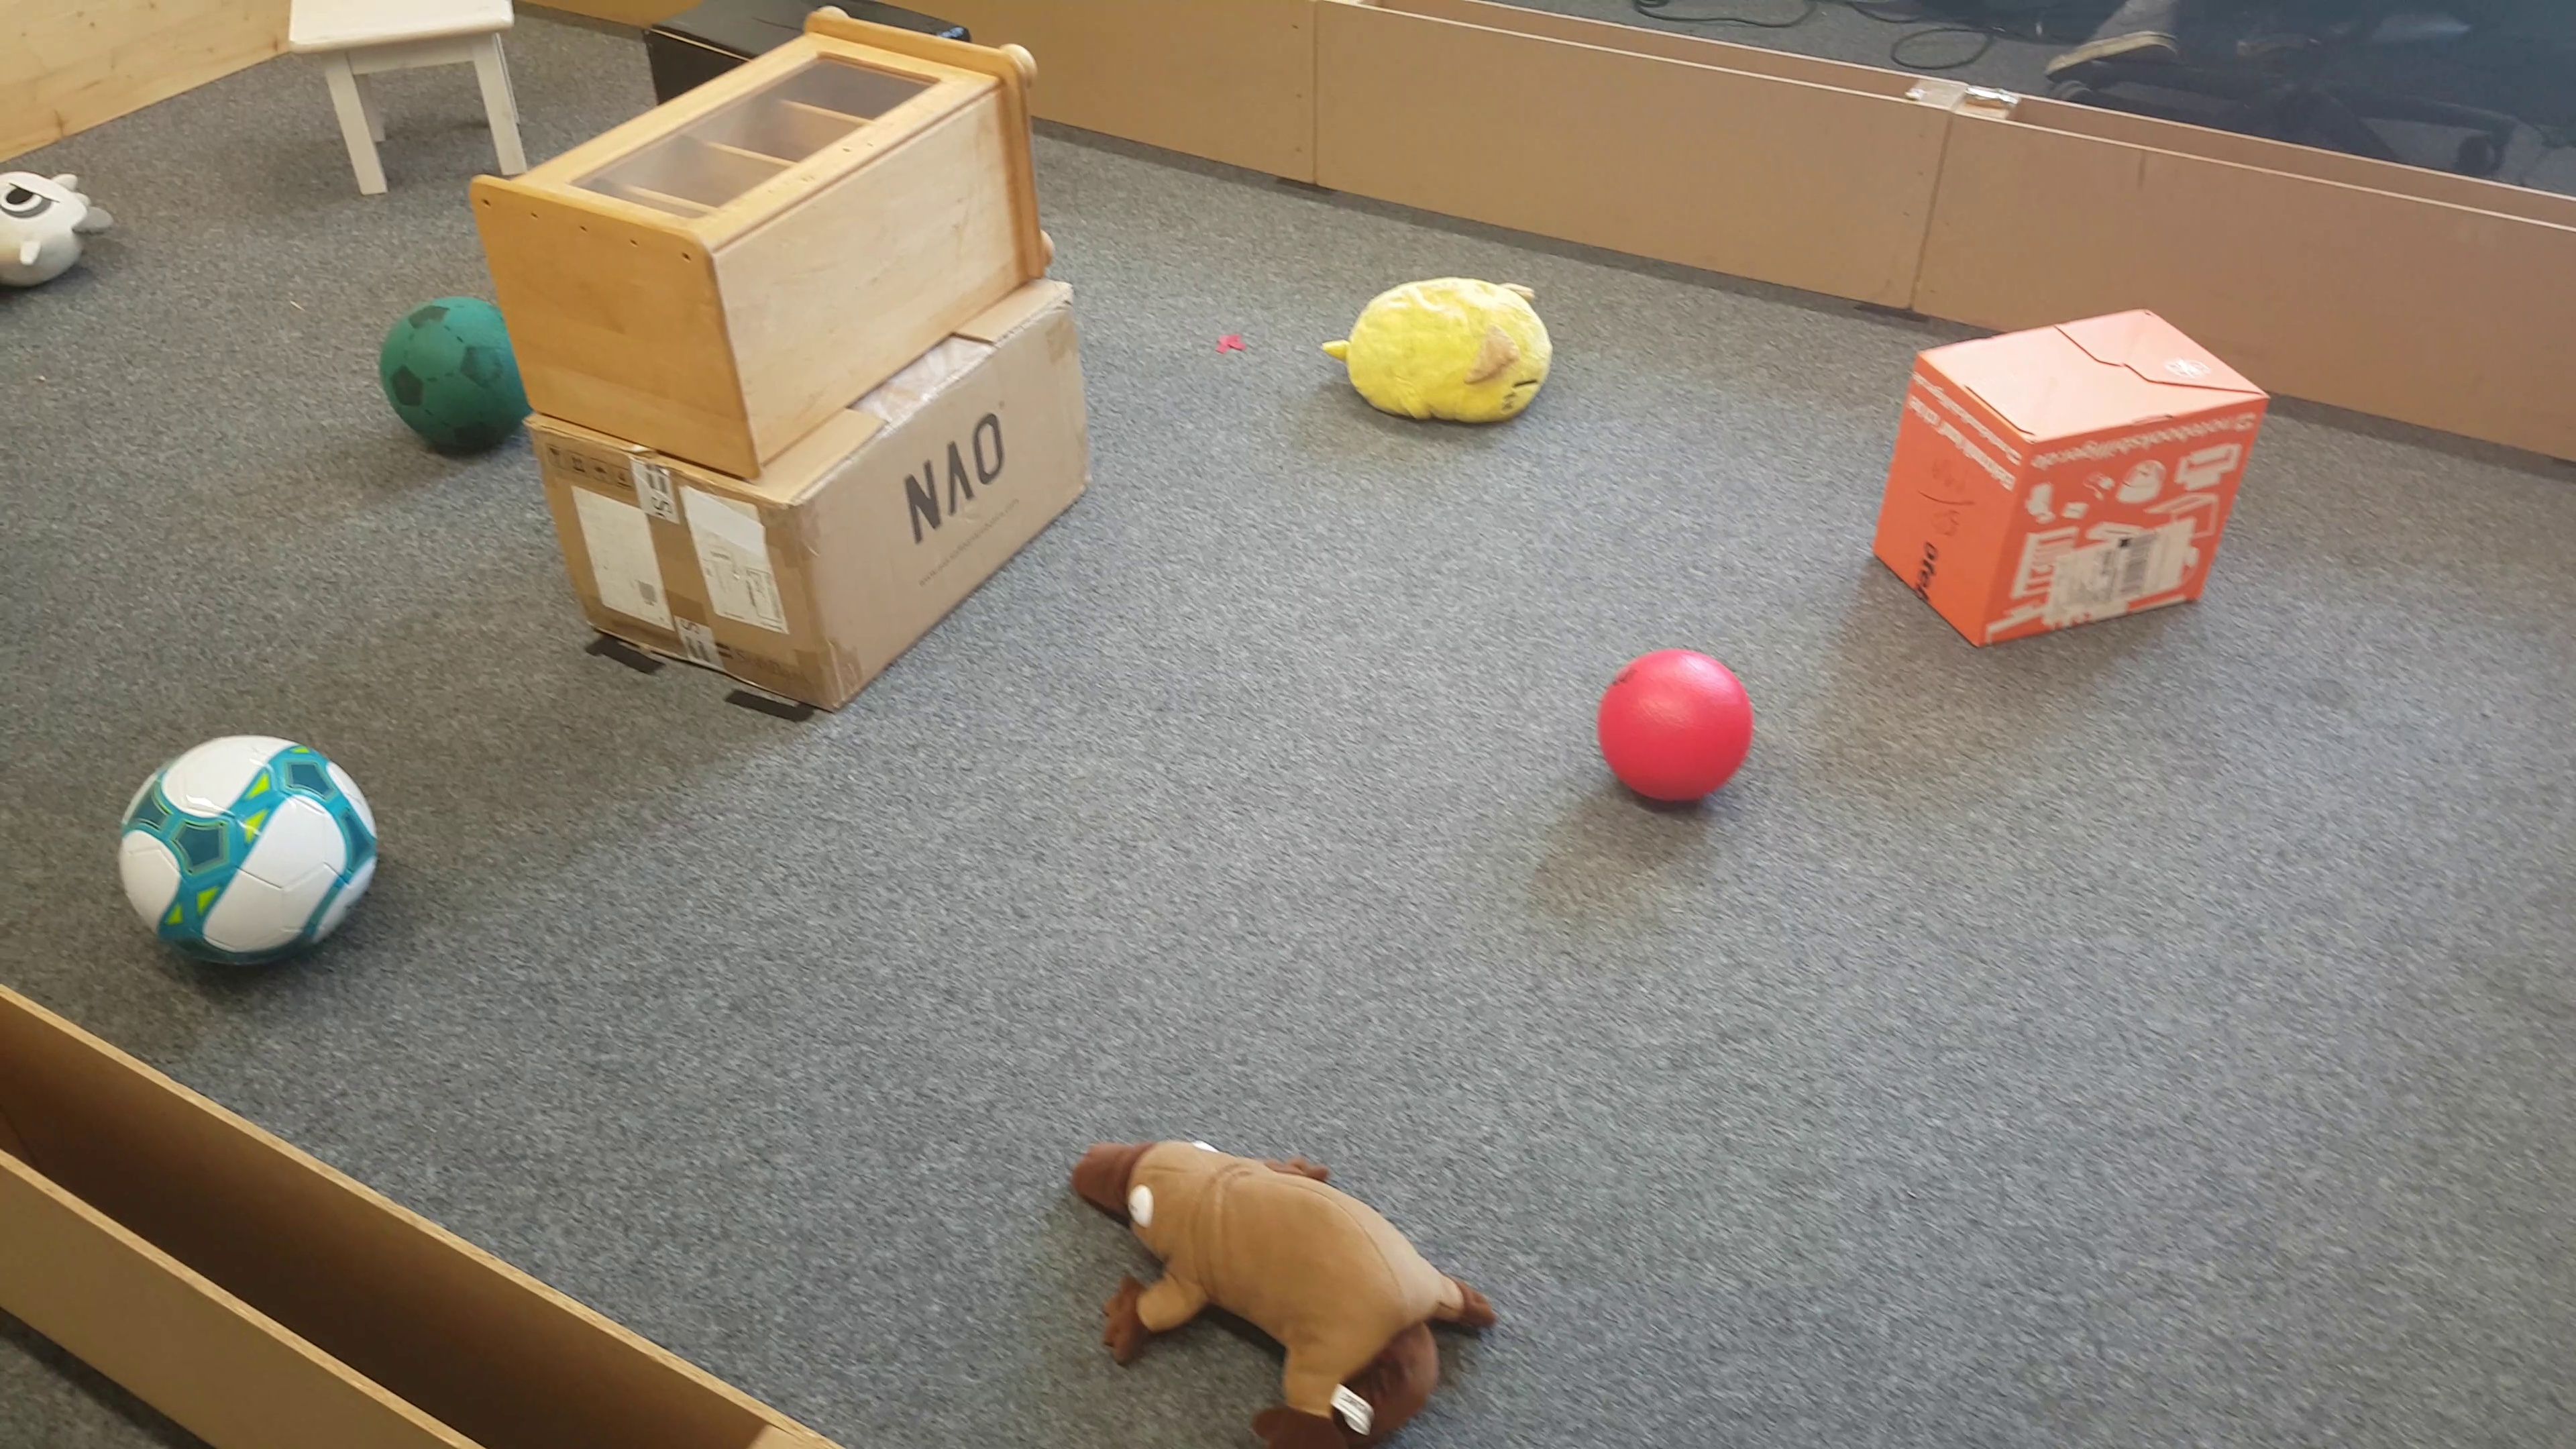grasp: (1065, 1134, 1495, 1449), (1325, 272, 1550, 426), (2, 161, 110, 290)
kick: (115, 736, 380, 971), (1601, 644, 1757, 816), (377, 294, 533, 458)
push: (1874, 308, 2270, 648)
